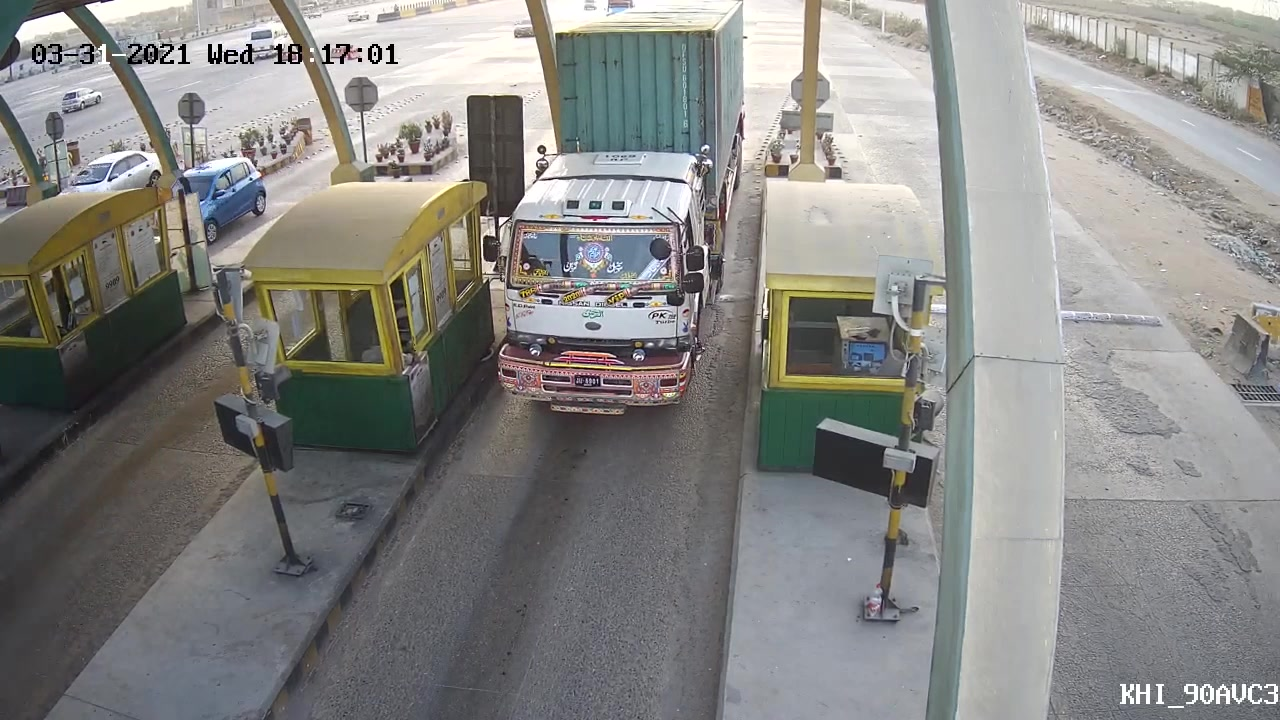F6: (477, 63, 758, 420)
